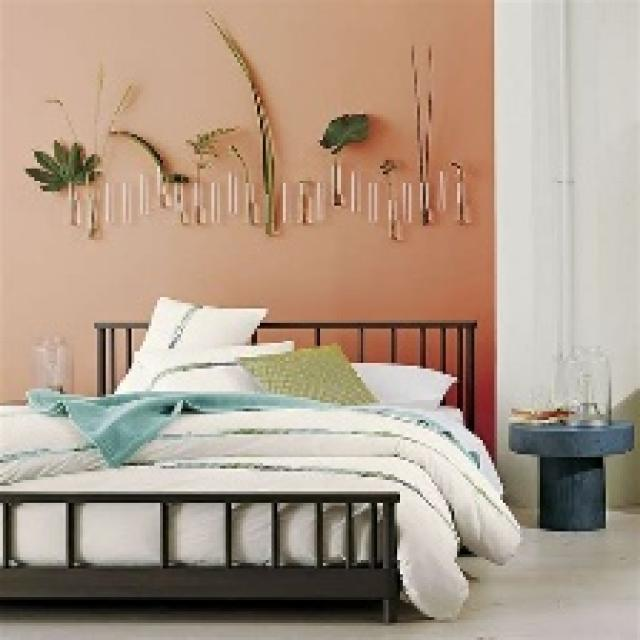Bed: (0, 317, 520, 623)
